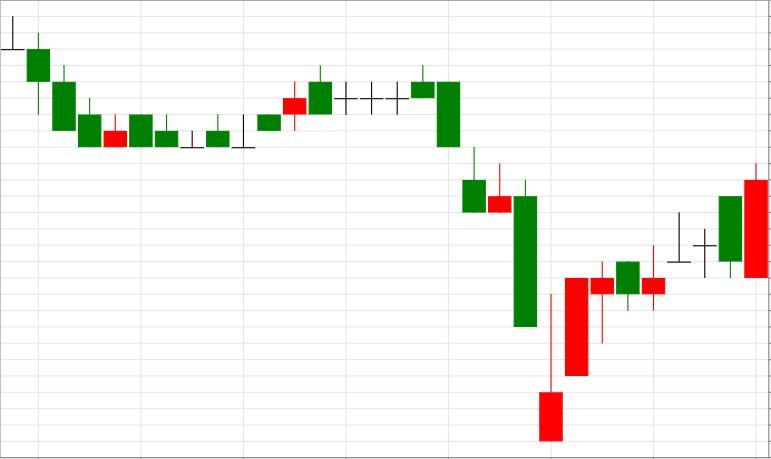inverse_hammer_rise: (412, 63, 564, 441)
